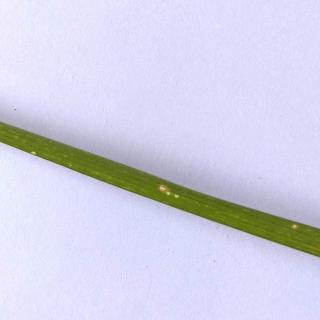Blast: (143, 174, 193, 213)
